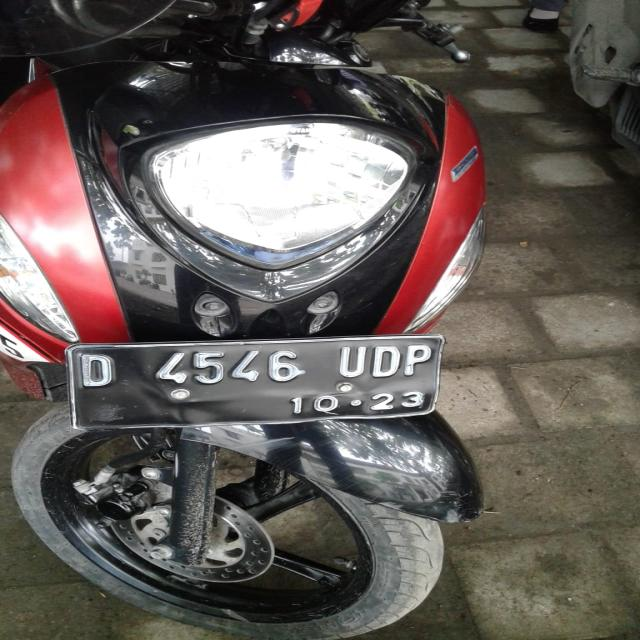plate: (72, 340, 439, 423)
